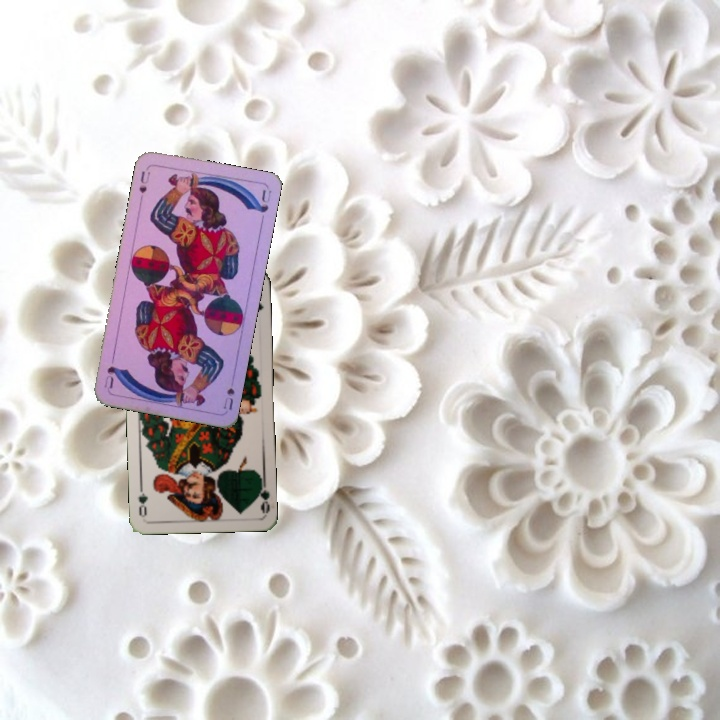GO: (252, 474, 272, 515)
SU: (135, 164, 153, 204), (220, 372, 237, 413)
